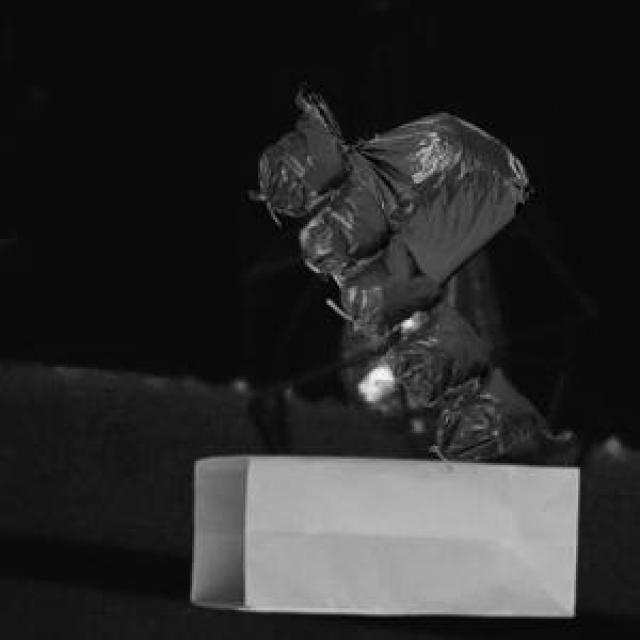miscellaneous trash: (256, 109, 548, 457), (302, 104, 527, 284)
paper: (188, 452, 574, 612)
